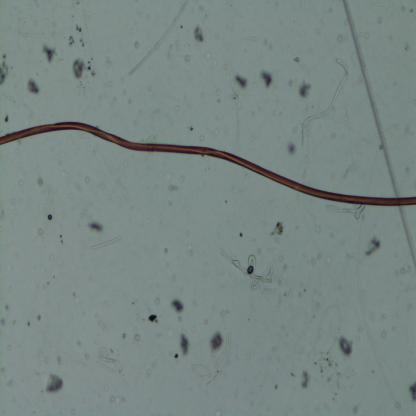Background material: (344, 0, 405, 200), (318, 350, 342, 398), (397, 205, 416, 261), (362, 231, 384, 260), (45, 369, 65, 396), (73, 56, 91, 81), (340, 334, 355, 358), (208, 331, 224, 353), (0, 53, 10, 86), (259, 67, 273, 90), (179, 330, 190, 358), (297, 79, 311, 101), (88, 218, 106, 235), (42, 43, 56, 64), (392, 264, 413, 278), (25, 78, 41, 96), (299, 370, 313, 390), (234, 72, 249, 90), (170, 297, 185, 314), (193, 26, 204, 48), (270, 222, 283, 239), (286, 139, 298, 157), (406, 380, 416, 401), (148, 313, 159, 327), (36, 174, 46, 188), (264, 40, 275, 52), (168, 184, 180, 192), (133, 38, 141, 50), (68, 35, 75, 48), (36, 227, 45, 237), (236, 228, 244, 238), (292, 56, 302, 64), (187, 124, 196, 132), (4, 111, 9, 123), (0, 318, 6, 327), (37, 312, 42, 322), (122, 332, 128, 340), (165, 246, 170, 255), (25, 320, 32, 326), (47, 213, 52, 220)
Glass filter fibre: (356, 216, 407, 414), (127, 0, 191, 77), (300, 57, 351, 146), (218, 246, 275, 287), (307, 304, 343, 360), (82, 6, 98, 76), (212, 332, 233, 382), (229, 82, 241, 155), (97, 347, 124, 375), (327, 204, 366, 218), (90, 234, 122, 251), (247, 254, 256, 307), (192, 361, 210, 380), (238, 34, 260, 42)
Microfibre: (0, 121, 416, 206)
